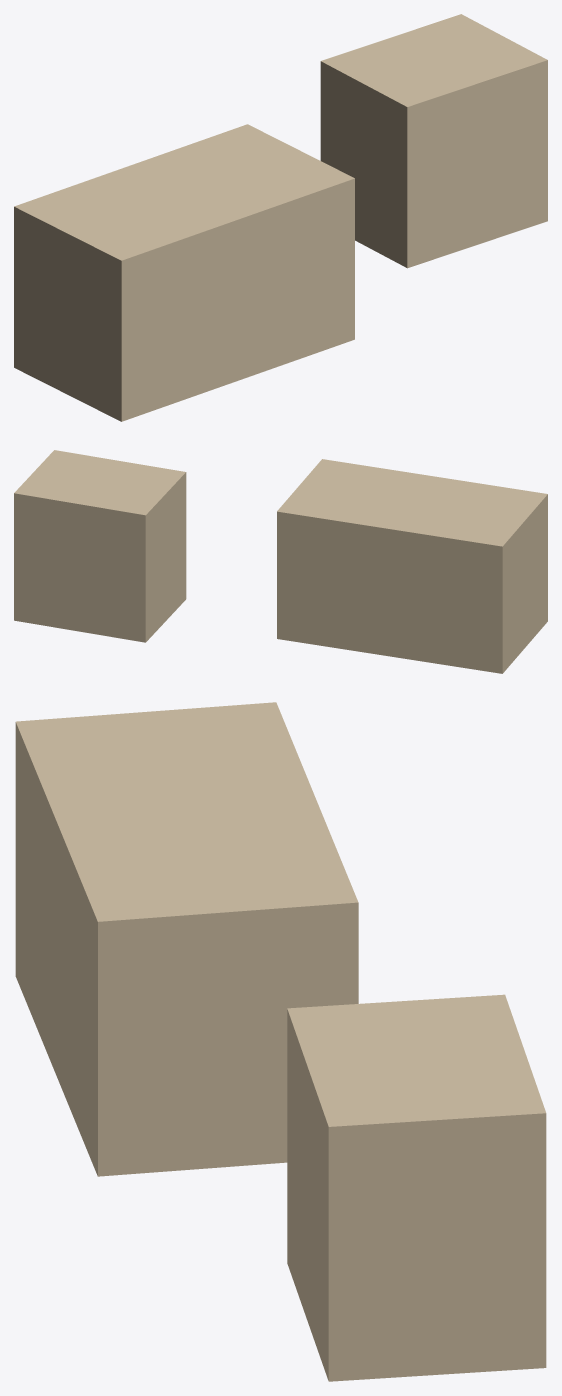
Rendered from -9_7-estimated-coarse.glb.
3 renders of one model, top to bottom at view 1: azimuth 30°, elevation 25°; view 2: azimuth 150°, elevation 25°; view 3: azimuth 270°, elevation 25°, orthographic. The views are drawn at different scales.
Bounding box in the file's own units: 42.91 × 12 × 22.66.
